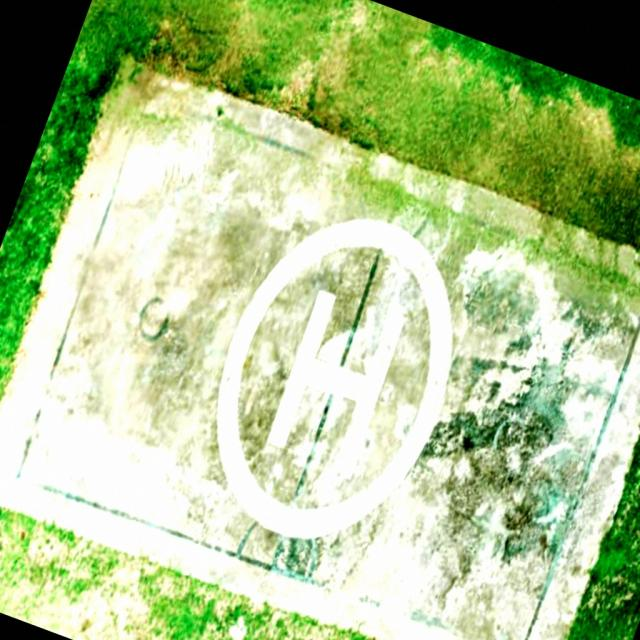helipad: (208, 211, 462, 548)
